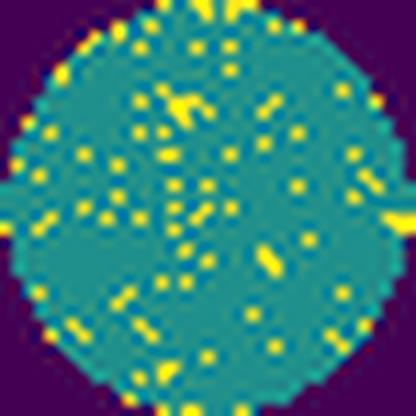Loc: (158, 84, 221, 129)
